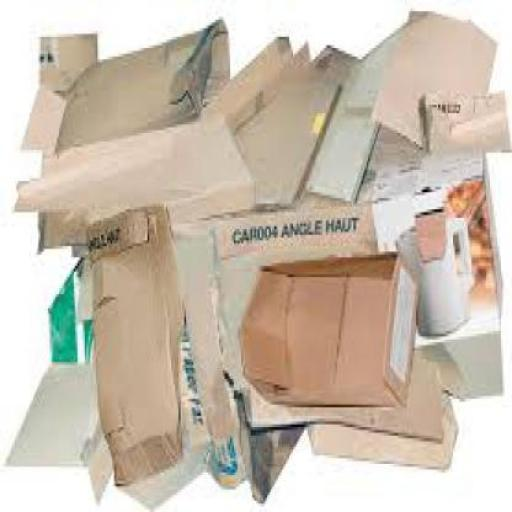cardboard: (214, 195, 468, 439), (78, 200, 216, 510), (370, 146, 503, 396), (238, 249, 418, 405), (13, 99, 250, 212), (37, 130, 252, 252), (56, 17, 226, 150), (362, 6, 496, 144), (175, 226, 245, 489), (296, 23, 391, 195), (4, 359, 110, 498), (206, 33, 290, 198), (281, 37, 358, 198), (195, 198, 376, 260), (306, 399, 456, 466), (20, 31, 96, 150), (233, 388, 306, 501), (422, 91, 510, 147), (46, 255, 92, 362), (362, 124, 418, 168), (292, 39, 310, 63)
